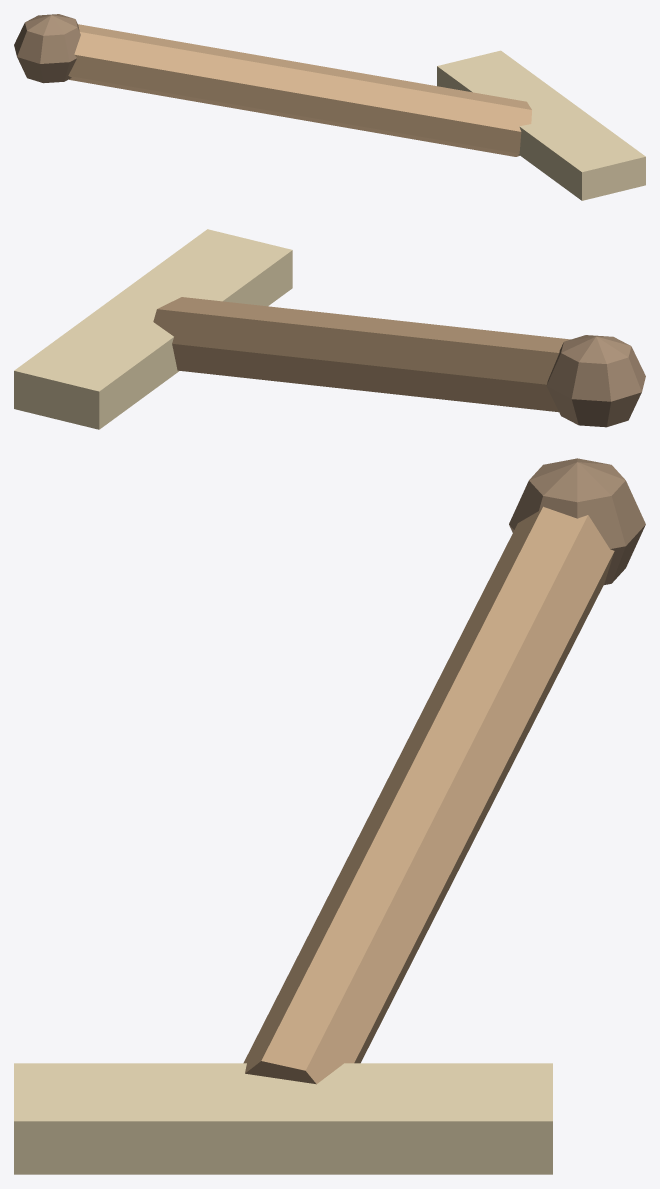
The model's file is remo.glb.
3 views of the same model, one above another, from view 1: azimuth 30°, elevation 25°; view 2: azimuth 150°, elevation 25°; view 3: azimuth 270°, elevation 25° (orthographic). The views are drawn at different scales.
Visible parts, largest first — view 1: remo; view 2: remo; view 3: remo.
Boxes of the visible parts, x1,y1,x2,y2 form: remo: [14, 14, 645, 200]; remo: [14, 229, 645, 429]; remo: [14, 458, 645, 1174].
Bounding box in the file's own units: 1.05 × 0.3728 × 0.645.
